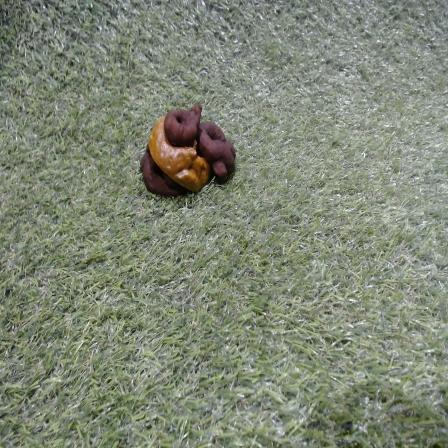dog-poop: (134, 104, 240, 203)
